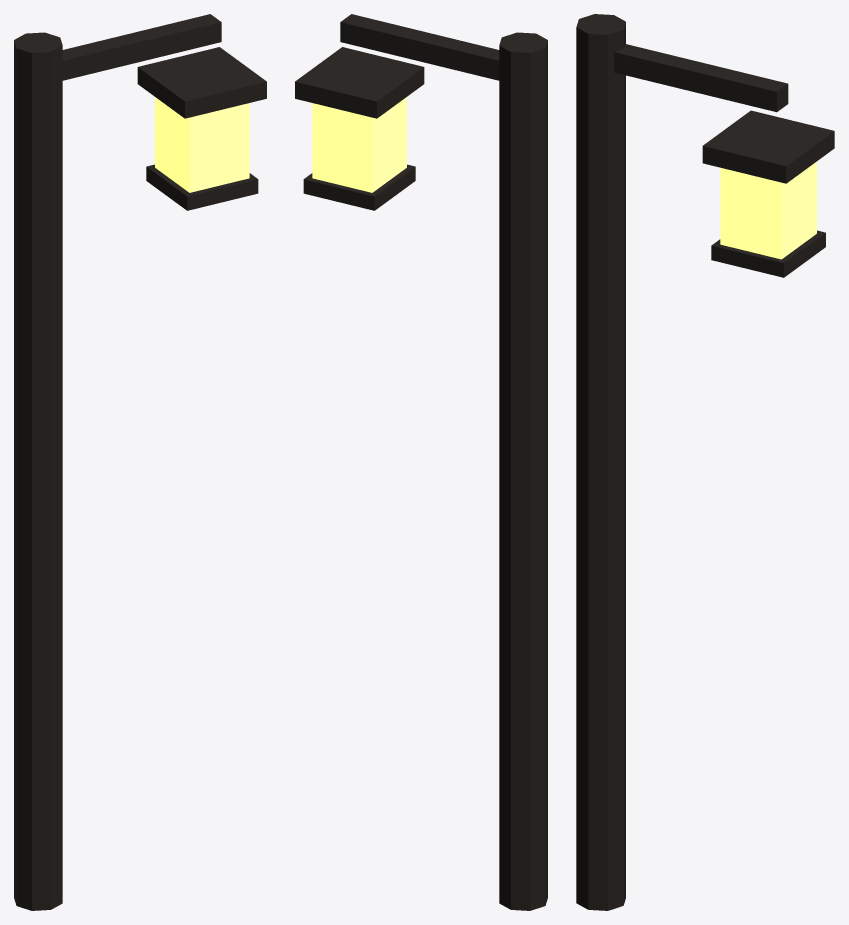
File: prop_lamppost.glb
3 views of the same model, side by side, from view 1: azimuth 30°, elevation 25°; view 2: azimuth 150°, elevation 25°; view 3: azimuth 330°, elevation 25° (orthographic). The views are drawn at different scales.
Parts seen in each view (by area): view 1: post, lantern_glass, lantern_top, arm, lantern_base; view 2: post, lantern_glass, lantern_top, arm, lantern_base; view 3: post, lantern_glass, lantern_top, arm, lantern_base.
Boxes of the visible parts, bbox=[...] form: post: bbox=[14, 32, 62, 910]; lantern_glass: bbox=[155, 97, 249, 192]; lantern_top: bbox=[137, 47, 266, 118]; arm: bbox=[62, 14, 221, 80]; lantern_base: bbox=[146, 164, 258, 210]; post: bbox=[499, 32, 547, 910]; lantern_glass: bbox=[312, 97, 406, 192]; lantern_top: bbox=[295, 47, 424, 118]; arm: bbox=[340, 14, 499, 80]; lantern_base: bbox=[303, 164, 415, 210]; post: bbox=[576, 14, 625, 910]; lantern_glass: bbox=[720, 161, 816, 259]; lantern_top: bbox=[702, 110, 834, 183]; arm: bbox=[614, 44, 788, 112]; lantern_base: bbox=[711, 230, 825, 277].
Size of the model in its own units: 0.83 by 3 by 0.3.
